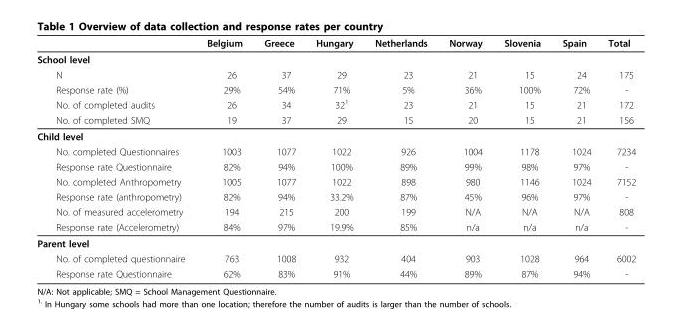table: (36, 36, 635, 278)
table column: (36, 36, 195, 278), (363, 36, 437, 278), (305, 36, 363, 278), (492, 36, 550, 278), (195, 36, 252, 278), (437, 36, 492, 278), (252, 36, 305, 278), (550, 36, 599, 278), (599, 36, 635, 278)
table column header: (36, 36, 635, 50)
table projected row header: (36, 50, 635, 66), (36, 127, 635, 143), (36, 234, 635, 250)
table row: (36, 50, 635, 66), (36, 96, 635, 112), (36, 127, 635, 143), (36, 203, 635, 219), (36, 234, 635, 250), (36, 66, 635, 81), (36, 81, 635, 96), (36, 112, 635, 127), (36, 143, 635, 158), (36, 158, 635, 173), (36, 173, 635, 188), (36, 188, 635, 203), (36, 219, 635, 234), (36, 250, 635, 265), (36, 36, 635, 50), (36, 265, 635, 278)
